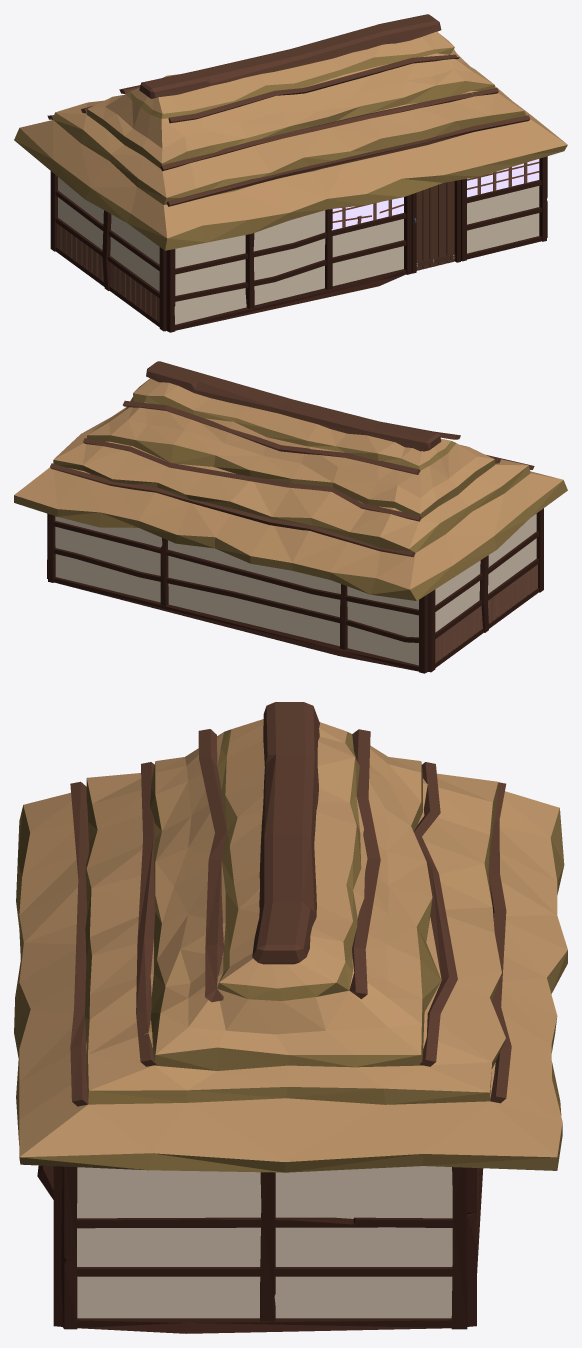
The model's file is Building_8 Asia.fbx.
3 renders of one model, top to bottom at view 1: azimuth 30°, elevation 25°; view 2: azimuth 150°, elevation 25°; view 3: azimuth 270°, elevation 25°, orthographic. The views are drawn at different scales.
Visible parts, largest first — view 1: Building_8; view 2: Building_8; view 3: Building_8.
Boxes of the visible parts, bbox=[...] form: Building_8: bbox=[14, 14, 567, 332]; Building_8: bbox=[14, 361, 567, 673]; Building_8: bbox=[14, 702, 567, 1333].
Bounding box in the file's own units: 8.49 × 3.73 × 5.56.
